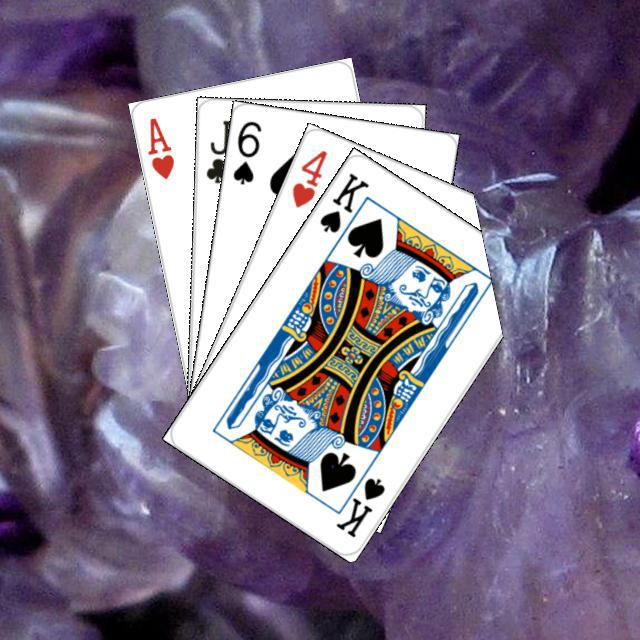4h: (287, 145, 329, 210)
6s: (228, 116, 263, 186)
Ah: (143, 112, 176, 181)
Jc: (201, 115, 232, 185)
Ks: (330, 460, 387, 539), (314, 168, 371, 235)
